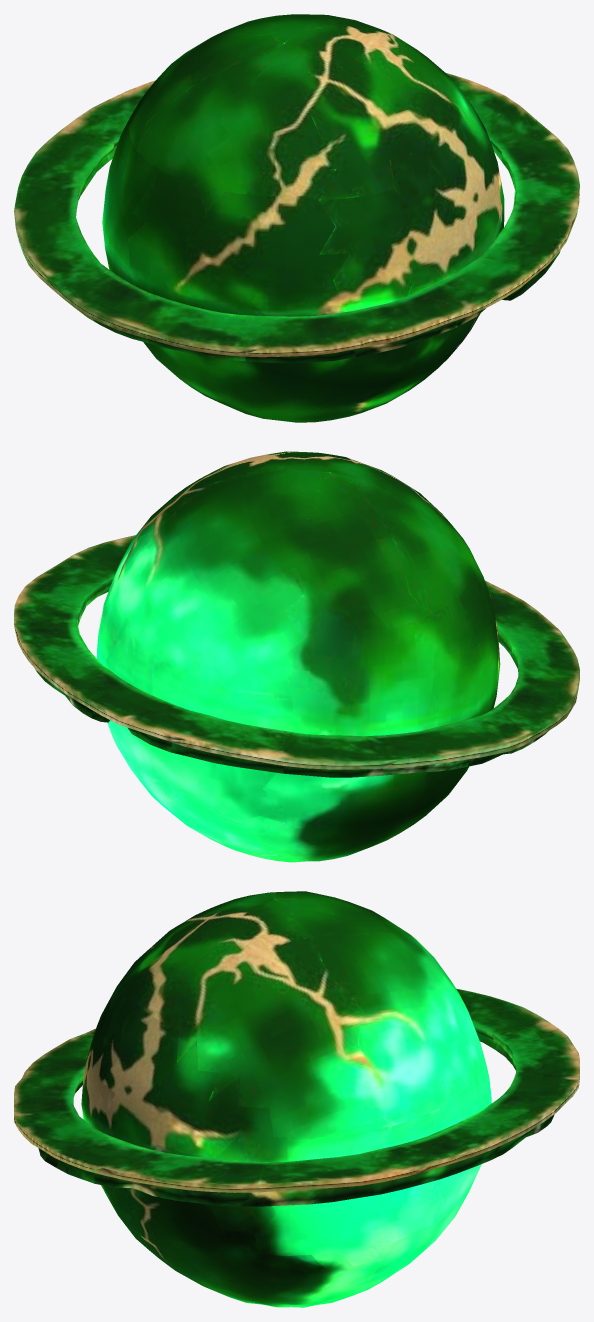
The model's file is 019fde95-ca3b-743f-bd61-a3377b36ec5f.glb.
3 views of the same model, one above another, from view 1: azimuth 30°, elevation 25°; view 2: azimuth 150°, elevation 25°; view 3: azimuth 270°, elevation 25° (orthographic).
Visible parts, largest first — view 1: mesh_node; view 2: mesh_node; view 3: mesh_node.
Part boxes in pixels (x1,y1,x2,y2): mesh_node: (14,14,579,422); mesh_node: (14,451,579,862); mesh_node: (14,891,579,1307).
Bounding box in the file's own units: 1 × 0.7402 × 1.
Materials: 1 (1 with a texture image).
